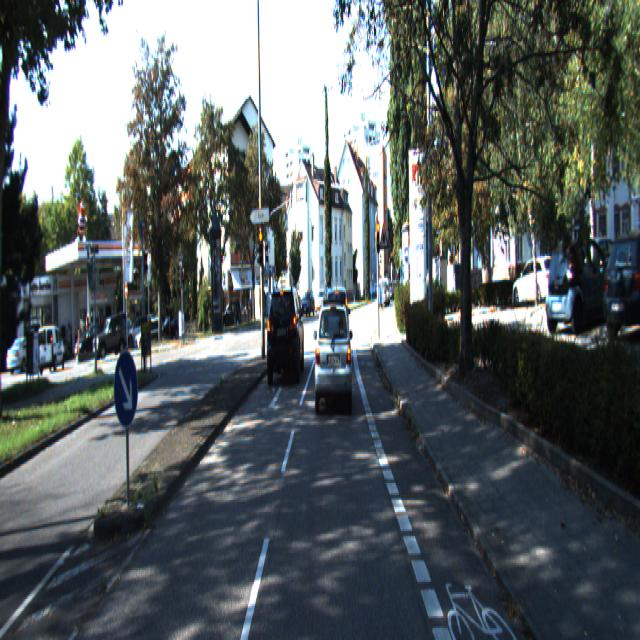Car: (546, 233, 628, 334), (598, 227, 640, 343), (314, 304, 352, 416), (266, 288, 304, 386), (324, 287, 350, 367)
DontCare: (4, 306, 136, 375), (508, 238, 556, 313), (136, 293, 180, 352), (362, 263, 397, 308), (220, 284, 242, 332)
